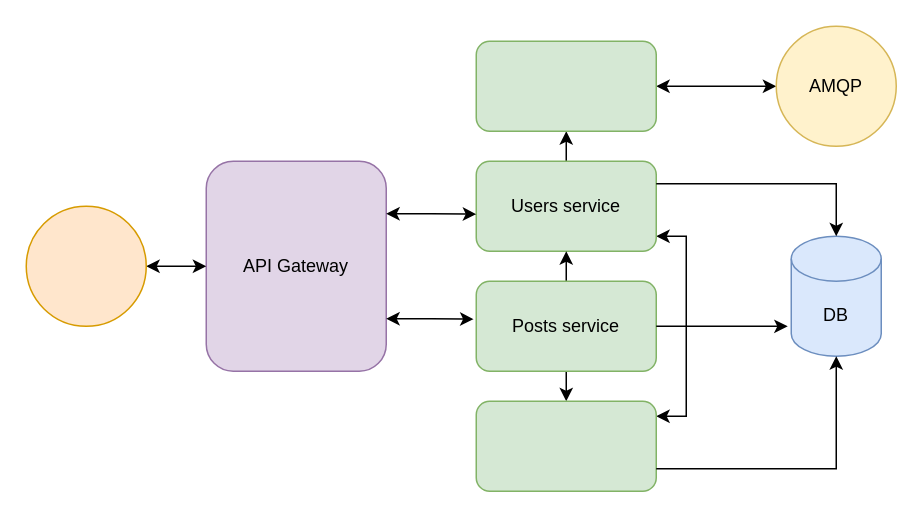
The diagram is 923 pixels wide and 518 high, and some of its shapes have lost their labels. The shapes that lost their labels are listed below. From the top down, each one's box as (x1, y1, x2, y2) in pixels, then its label:
(475, 40, 656, 131): Mailer
(25, 205, 146, 326): Front-end
(475, 400, 656, 491): Image storage
